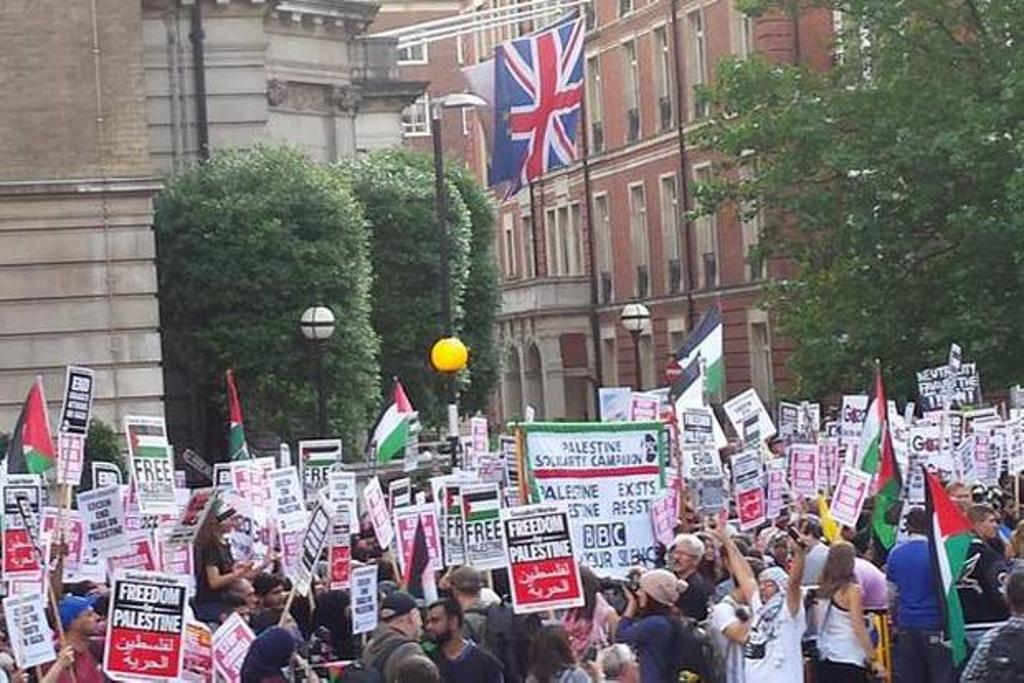face: (426, 611, 448, 644), (669, 545, 695, 572), (81, 606, 101, 636), (266, 585, 286, 612), (241, 586, 258, 615), (799, 525, 820, 547), (360, 535, 377, 562), (759, 579, 776, 605), (625, 654, 640, 682), (234, 606, 251, 630), (409, 611, 424, 638), (982, 515, 998, 539), (85, 590, 104, 610), (955, 492, 972, 513), (636, 583, 649, 609), (701, 539, 715, 561), (756, 537, 772, 556), (223, 513, 237, 533), (1004, 500, 1017, 519)
